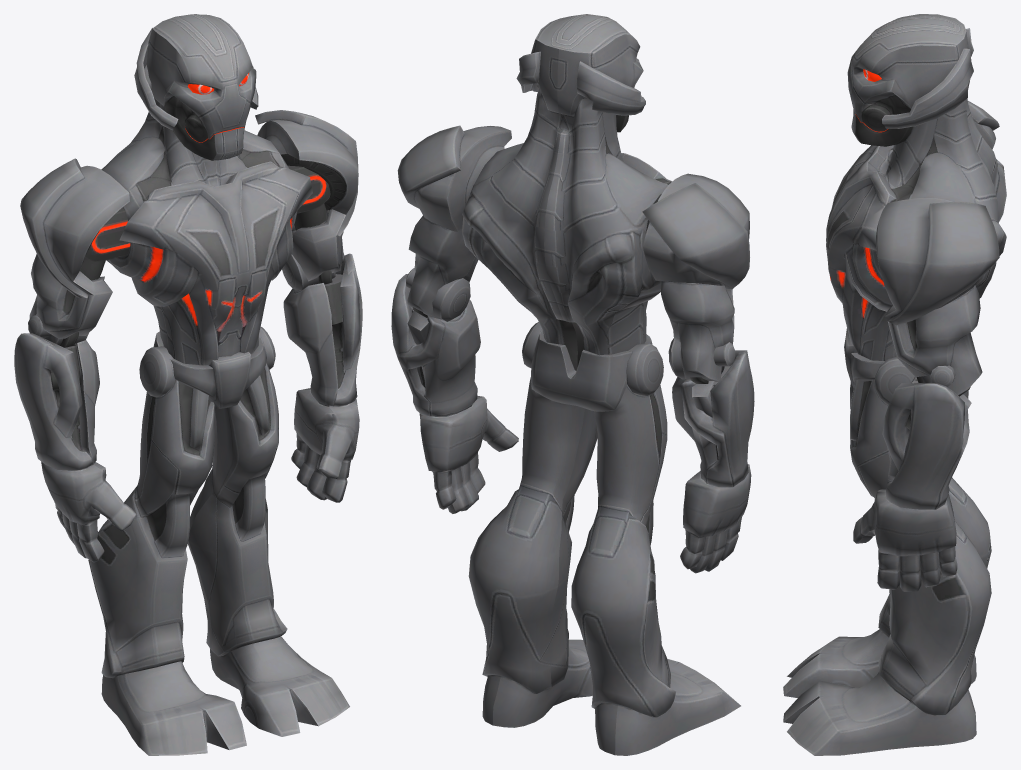
File: ultron.glb
3 renders of one model, left to right at view 1: azimuth 30°, elevation 25°; view 2: azimuth 150°, elevation 25°; view 3: azimuth 270°, elevation 25°, orthographic. The views are drawn at different scales.
Visible parts, largest first — view 1: AVG_Ultron_LOD_0; view 2: AVG_Ultron_LOD_0; view 3: AVG_Ultron_LOD_0.
Boxes of the visible parts, x1,y1,x2,y2 form: AVG_Ultron_LOD_0: (14, 14, 362, 755); AVG_Ultron_LOD_0: (391, 14, 754, 755); AVG_Ultron_LOD_0: (783, 14, 1006, 755).
Size of the model in its own units: 1.03 by 2 by 0.5908.
1 material, 1 textured.
